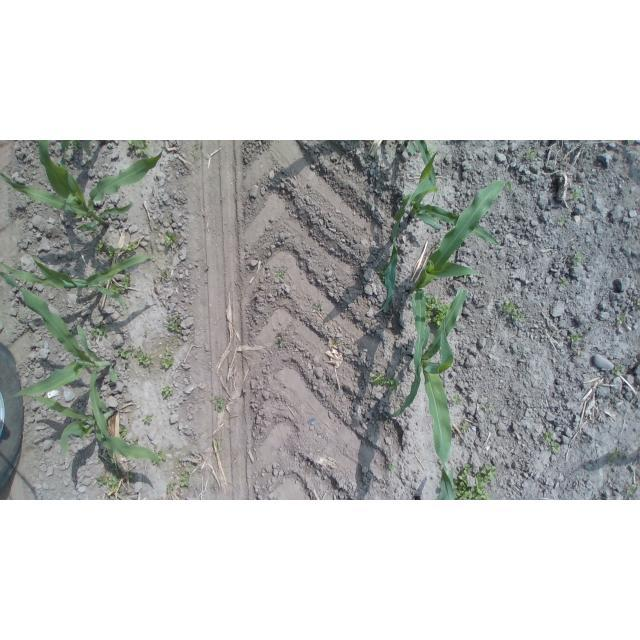Maize: (387, 175, 510, 424), (1, 271, 134, 454), (373, 140, 498, 316), (397, 285, 474, 500), (0, 142, 164, 232), (24, 385, 164, 471), (3, 248, 156, 310)
Weeds: (451, 462, 497, 500), (94, 467, 131, 496), (115, 344, 154, 369), (368, 371, 401, 391), (109, 273, 134, 299), (93, 236, 120, 259), (431, 300, 452, 326), (503, 300, 525, 324), (87, 320, 111, 341), (125, 141, 154, 158), (538, 432, 561, 451), (165, 315, 185, 336), (162, 230, 181, 251), (159, 348, 178, 369), (422, 291, 439, 314), (147, 450, 169, 467), (565, 330, 583, 345), (606, 449, 621, 467), (158, 385, 176, 400), (376, 264, 389, 284), (213, 394, 226, 414), (458, 419, 475, 434), (446, 393, 463, 408), (625, 485, 640, 500), (123, 242, 138, 257), (555, 275, 570, 290), (178, 472, 191, 489), (523, 147, 537, 162), (568, 186, 580, 203), (615, 311, 629, 325), (571, 252, 584, 267), (213, 439, 226, 454), (313, 298, 325, 313), (274, 334, 286, 349), (159, 266, 171, 280), (142, 413, 156, 425), (272, 268, 286, 280), (165, 481, 175, 496), (555, 216, 566, 228), (482, 404, 495, 414), (117, 428, 131, 437), (609, 365, 623, 374), (386, 461, 397, 472), (426, 147, 435, 158), (326, 378, 335, 388), (330, 339, 340, 346)
